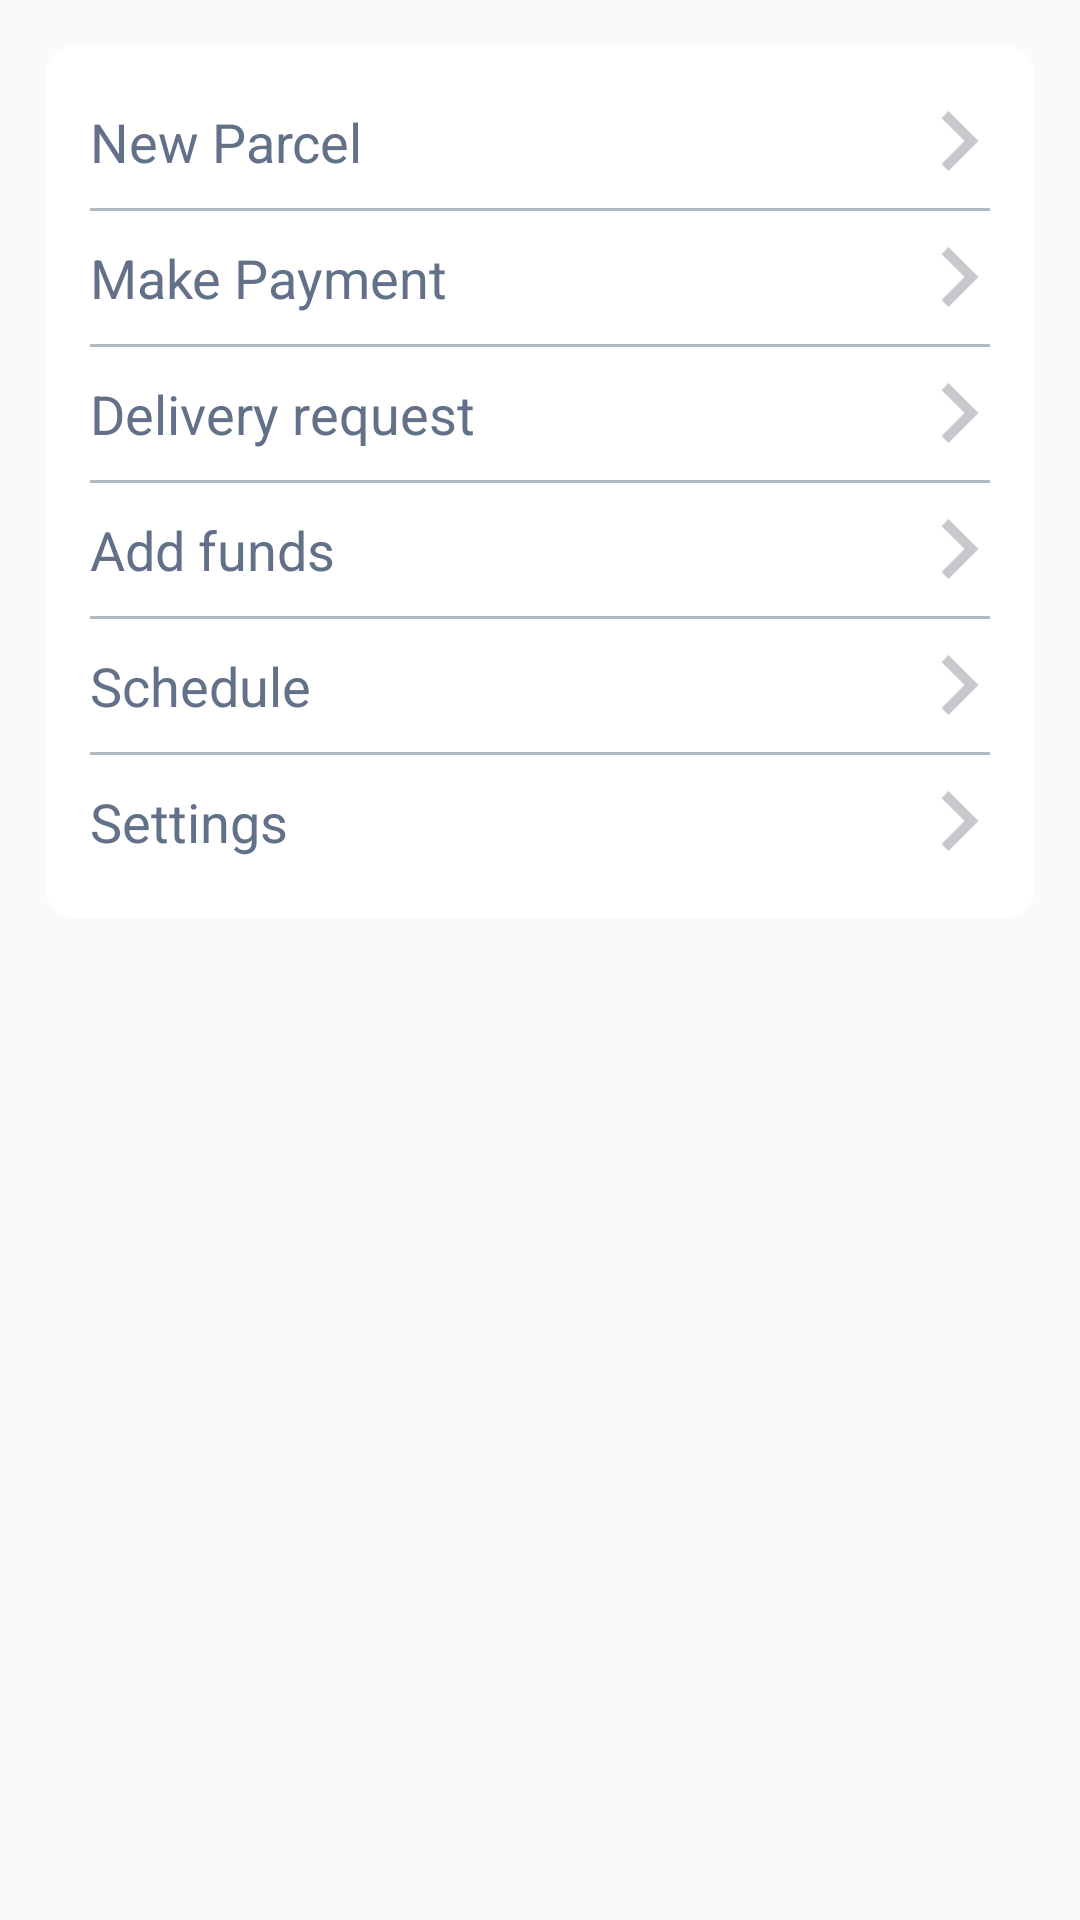

Where to tap for icons on this 1080×1920 app screen, as [x,y]:
right arrow: [960,141], [960,277], [960,413], [960,549], [960,685], [960,821]
